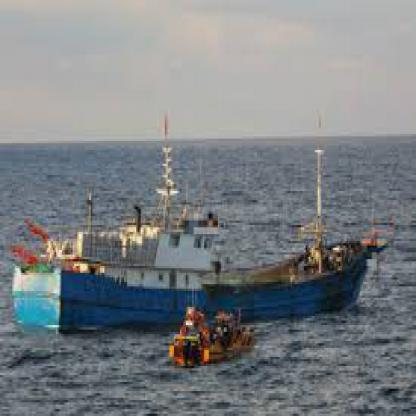fish-b: (4, 107, 388, 348)
